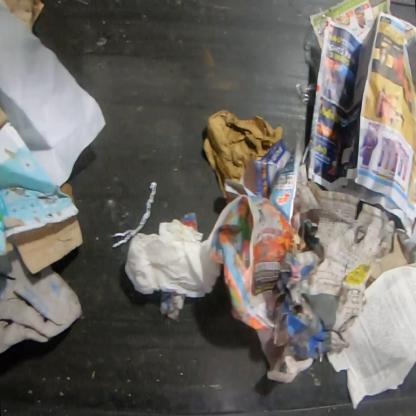cardboard: (0, 109, 83, 278), (365, 231, 414, 290)
soft_plastic: (302, 14, 326, 82), (294, 82, 316, 106)
